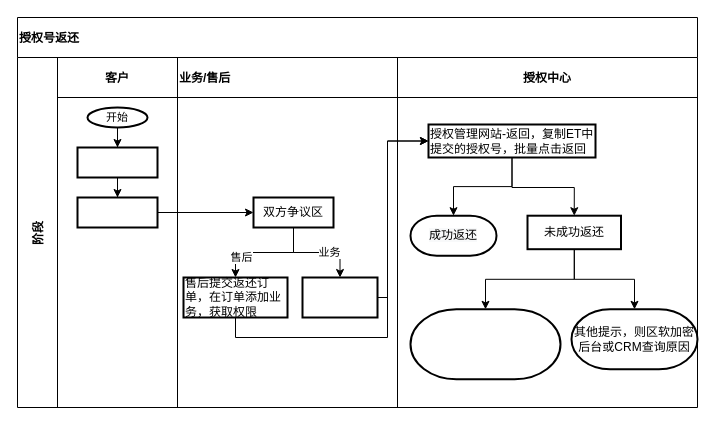
The diagram is 716 pixels wide and 425 high, and some of its shapes have lost their labels. Here are the shapes that lost their labels. From the top down, the box of each, then its label:
(76, 146, 158, 178): 无法自行返还
(76, 196, 158, 228): 客户群/邮件提交表单
(301, 276, 378, 318): 业务提交返还订单
(409, 308, 561, 380): 若提示激活号未激活 ,eteams 中的订单直接过 , 但在备注说明激活号未激活可以直接使用
